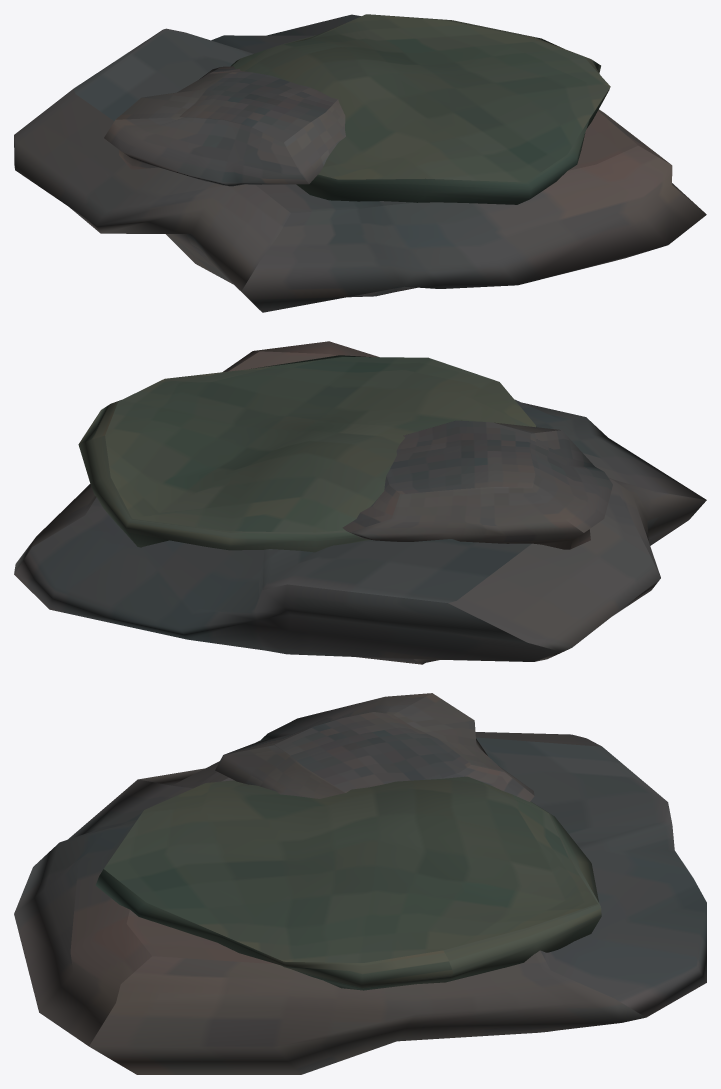
File: Debris2.fbx
3 views of the same model, one above another, from view 1: azimuth 30°, elevation 25°; view 2: azimuth 150°, elevation 25°; view 3: azimuth 270°, elevation 25° (orthographic). The views are drawn at different scales.
Visible parts, largest first — view 1: pCube1, pCylinder1, pCube2; view 2: pCube1, pCylinder1, pCube2; view 3: pCube1, pCylinder1, pCube2.
Boxes of the visible parts, bbox=[...] form: pCube1: bbox=[14, 14, 706, 312]; pCylinder1: bbox=[231, 14, 610, 204]; pCube2: bbox=[104, 66, 345, 186]; pCube1: bbox=[14, 341, 706, 664]; pCylinder1: bbox=[78, 355, 536, 552]; pCube2: bbox=[342, 420, 612, 549]; pCube1: bbox=[14, 732, 706, 1074]; pCylinder1: bbox=[95, 776, 601, 990]; pCube2: bbox=[215, 693, 534, 801].
Size of the model in its own units: 17.87 by 5.57 by 18.39.
